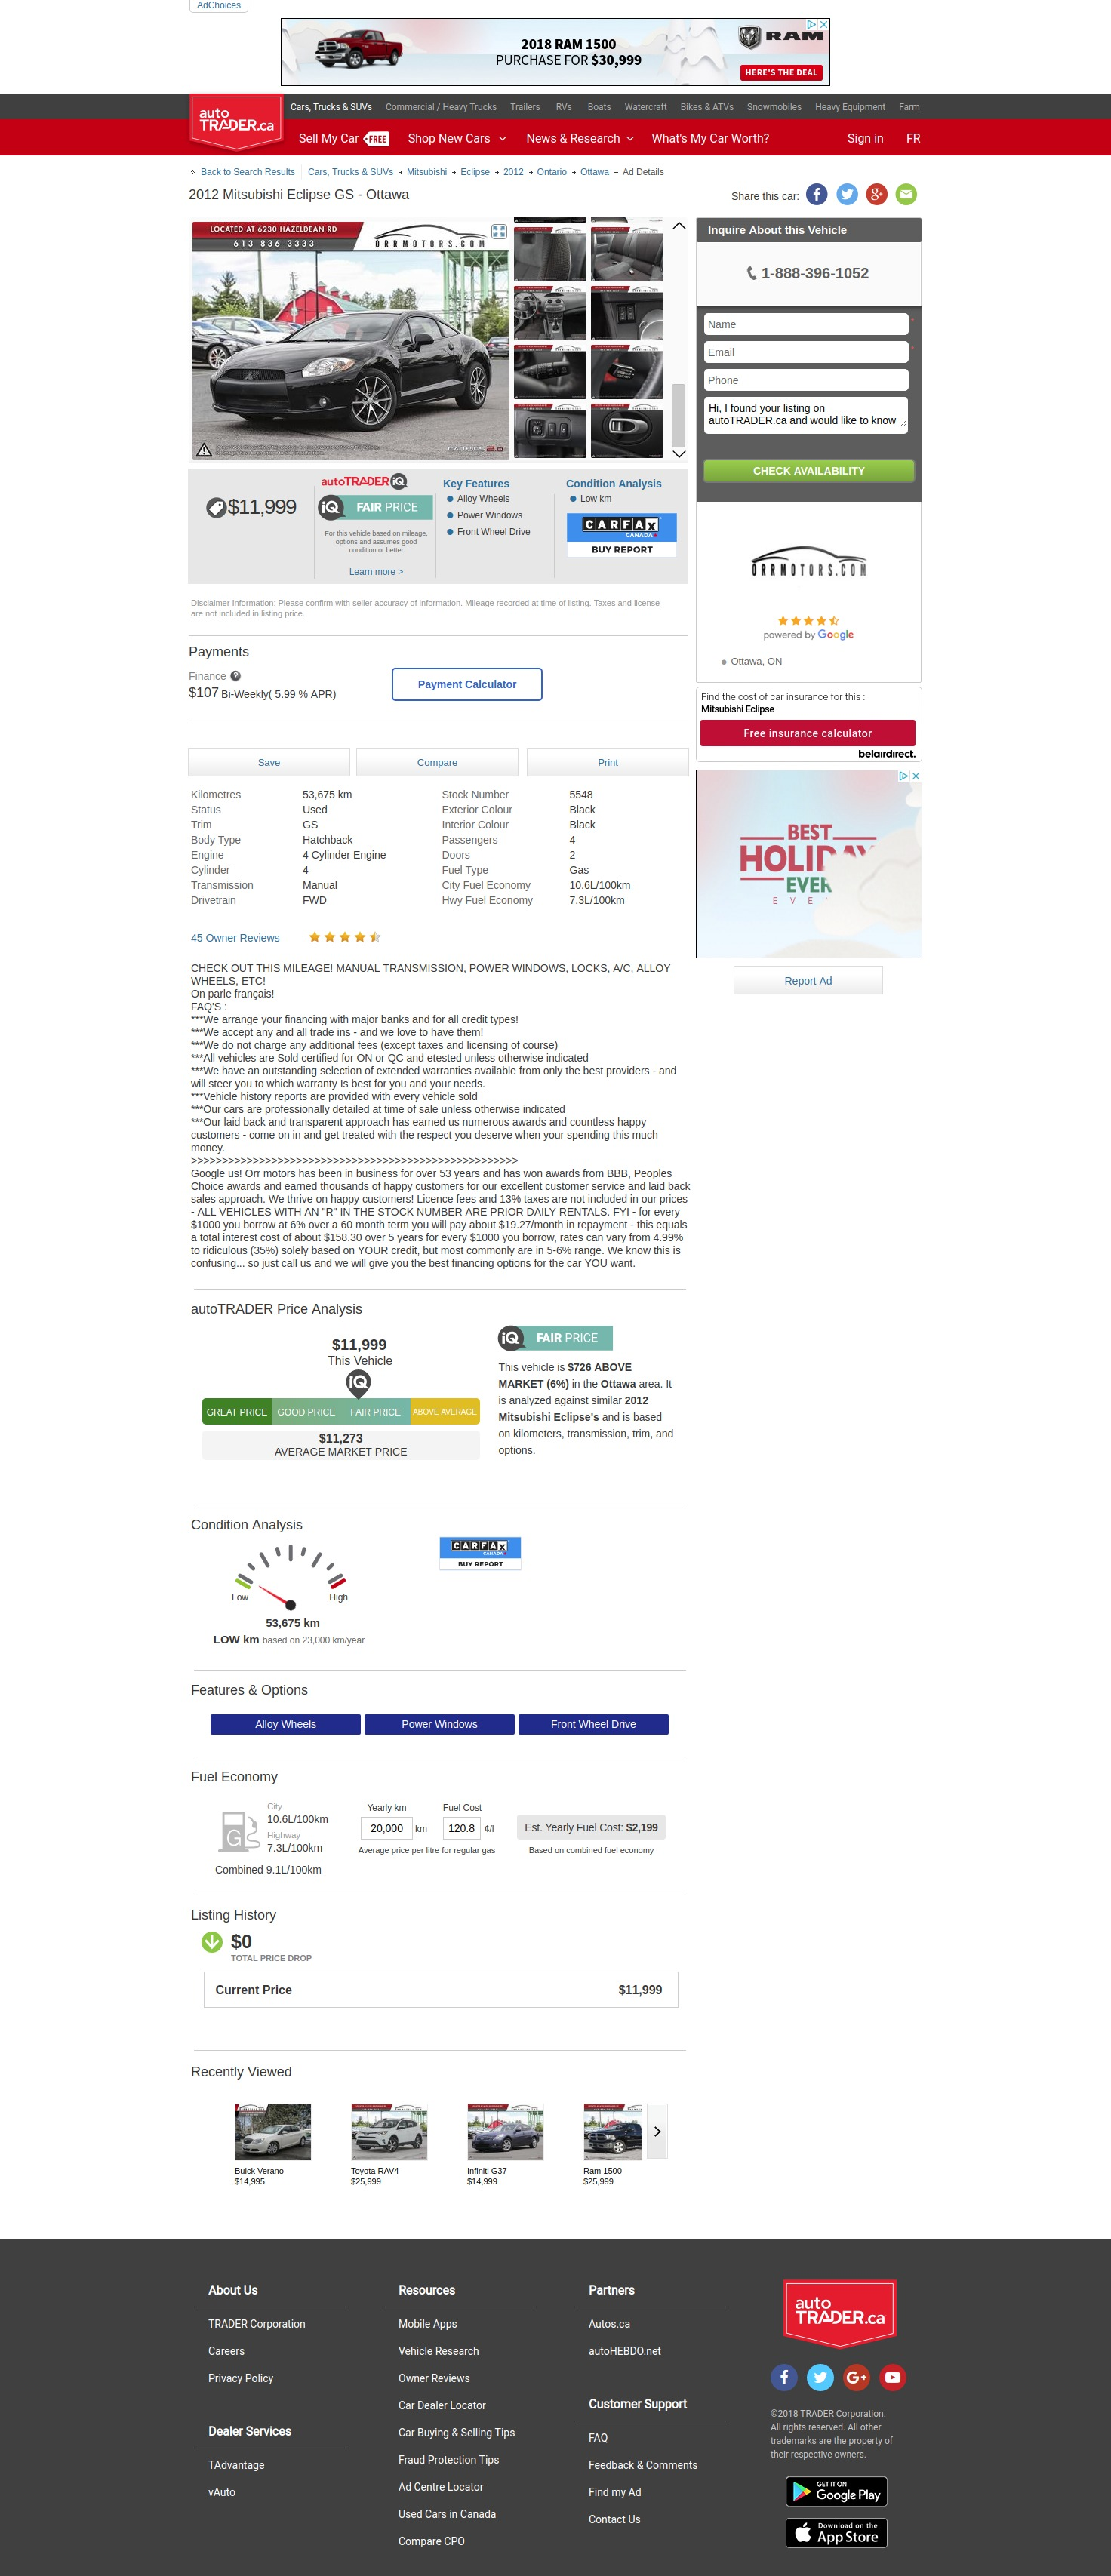car: (672, 450, 687, 458)
